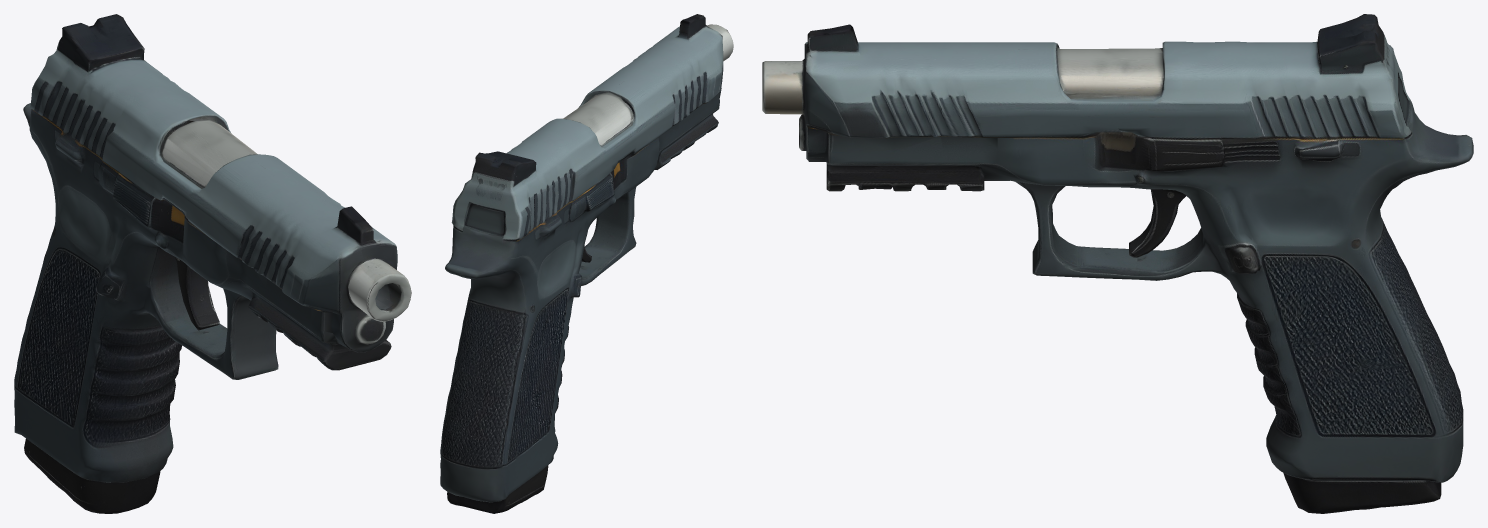
File: Weapon_MeridianSidearm.fbx
The picture shows the model from 3 angles, left to right: view 1: azimuth 30°, elevation 25°; view 2: azimuth 150°, elevation 25°; view 3: azimuth 270°, elevation 25°; orthographic projection. The views are drawn at different scales.
Parts seen in each view (by area): view 1: Mesh_0; view 2: Mesh_0; view 3: Mesh_0.
Part boxes in pixels (x1,y1,x2,y2): Mesh_0: (14,14,411,513); Mesh_0: (440,14,733,513); Mesh_0: (762,14,1473,513).
Size of the model in its own units: 34.05 by 140 by 191.
